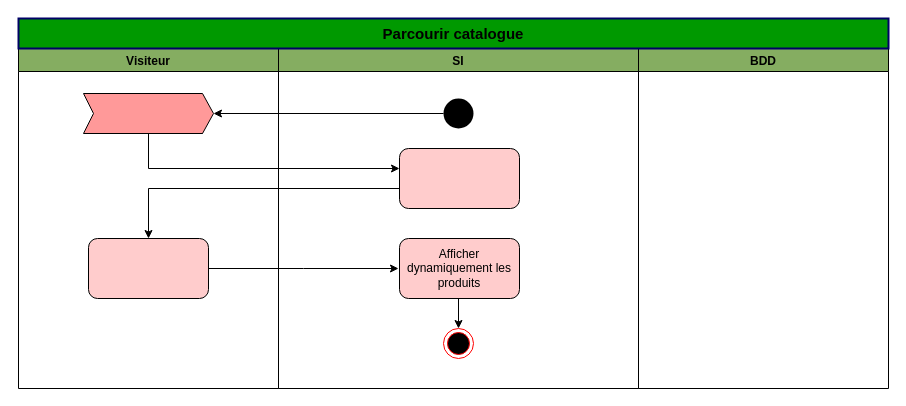
The diagram is 906 pixels wide and 406 high, and some of its shapes have lost their labels. Each missing label, with the centre of its shape:
"Afficher index produit catalogue" goes at (x=459, y=178).
"Choisir catégorie" goes at (x=148, y=268).
"Cliquer sur parcourir catalogue" goes at (x=148, y=113).
